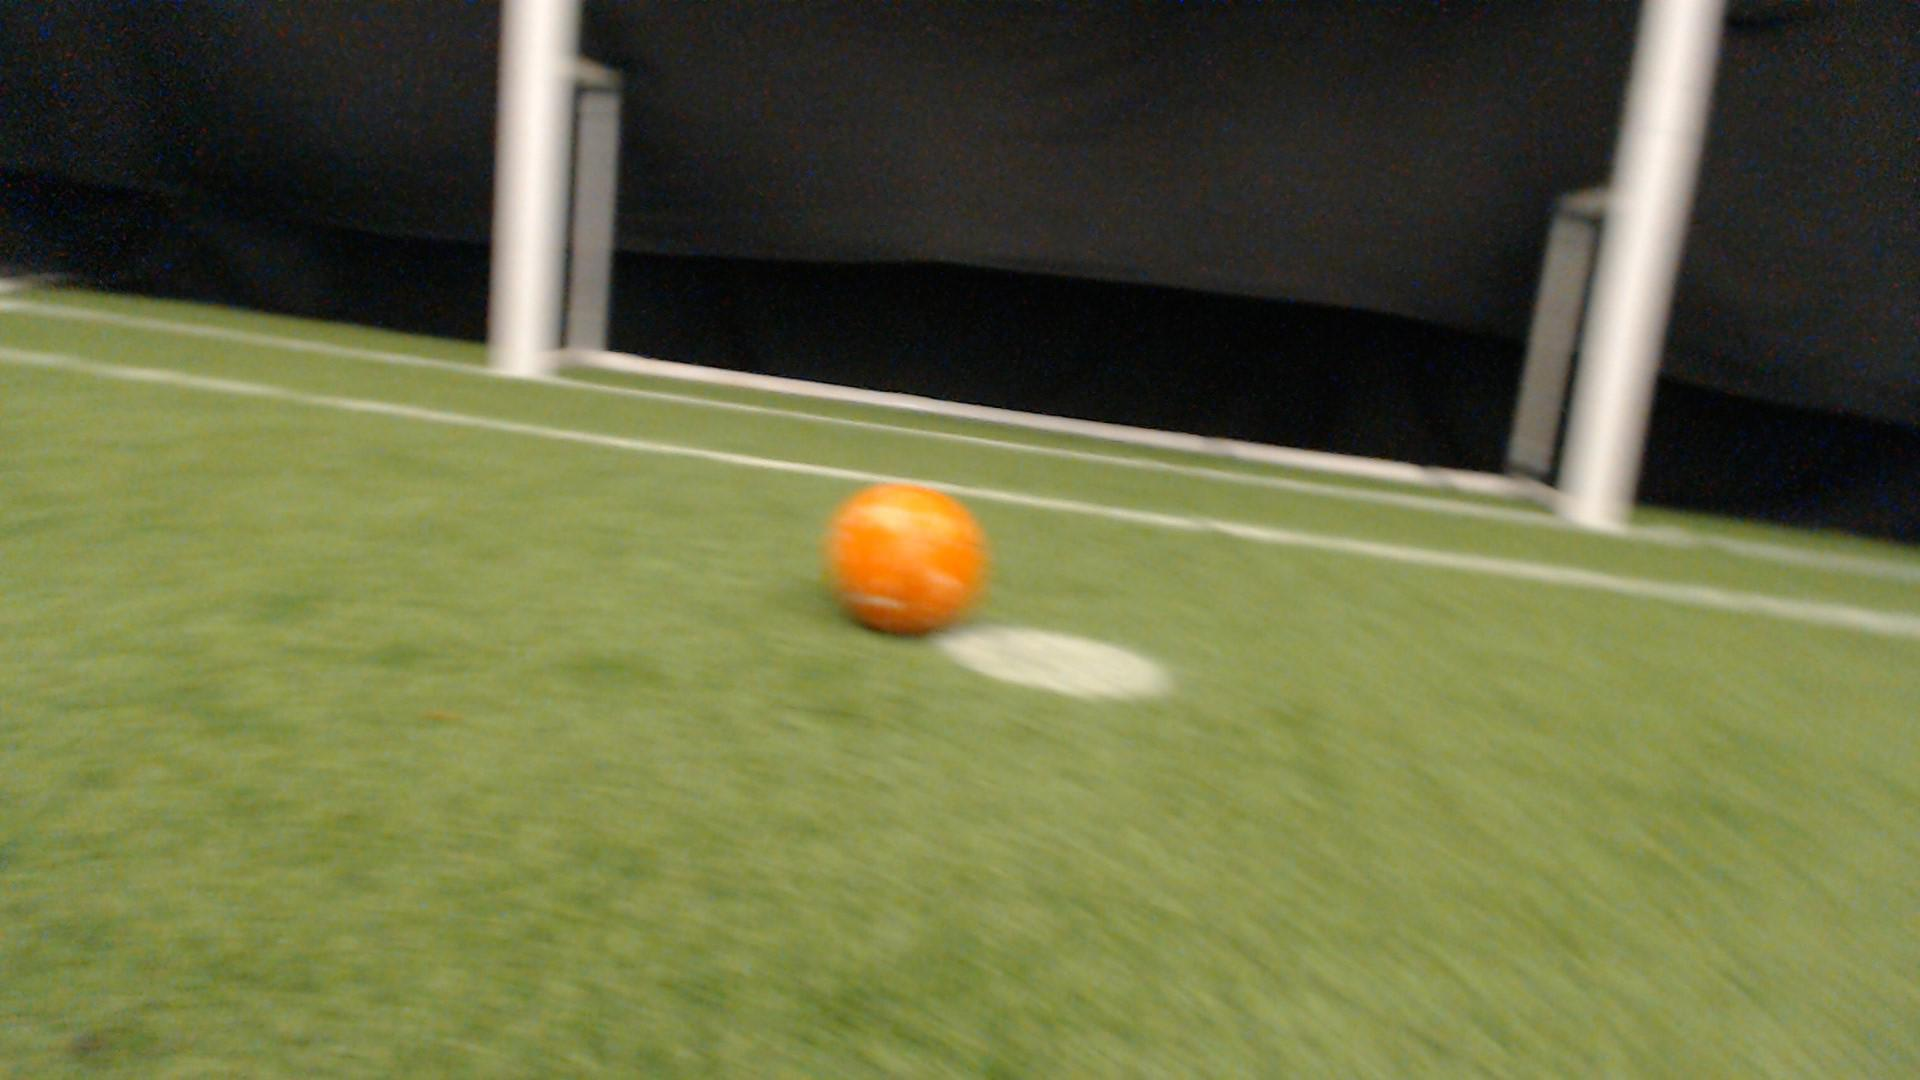bola: (802, 472, 1011, 641)
